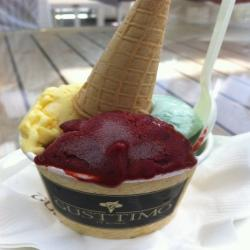icecream: (17, 84, 220, 184)
